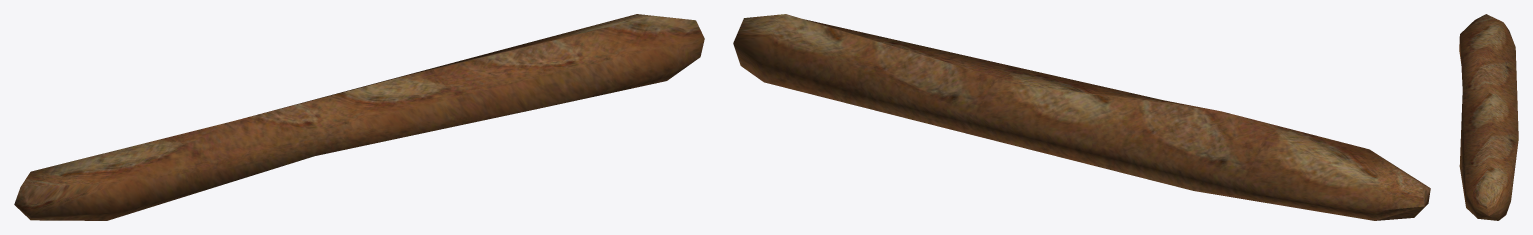
The model's file is p_glo_bread_bgtte_lod2.glb.
The picture shows the model from 3 angles, left to right: view 1: azimuth 30°, elevation 25°; view 2: azimuth 150°, elevation 25°; view 3: azimuth 270°, elevation 25°; orthographic projection. The views are drawn at different scales.
Visible parts, largest first — view 1: surf0; view 2: surf0; view 3: surf0.
Boxes of the visible parts, x1,y1,x2,y2 form: surf0: (14,14,704,220); surf0: (733,14,1430,220); surf0: (1459,14,1518,220).
Size of the model in its own units: 30.11 by 2.68 by 3.96.
